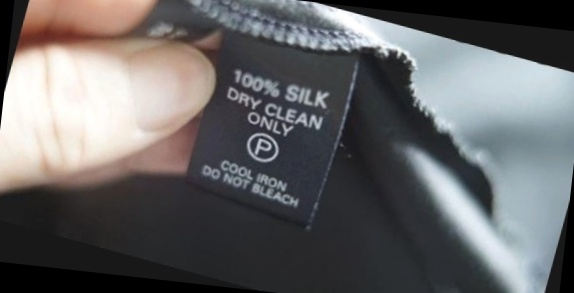dry_clean_any_solvent_except_trichloroethylene: (243, 128, 285, 166)
